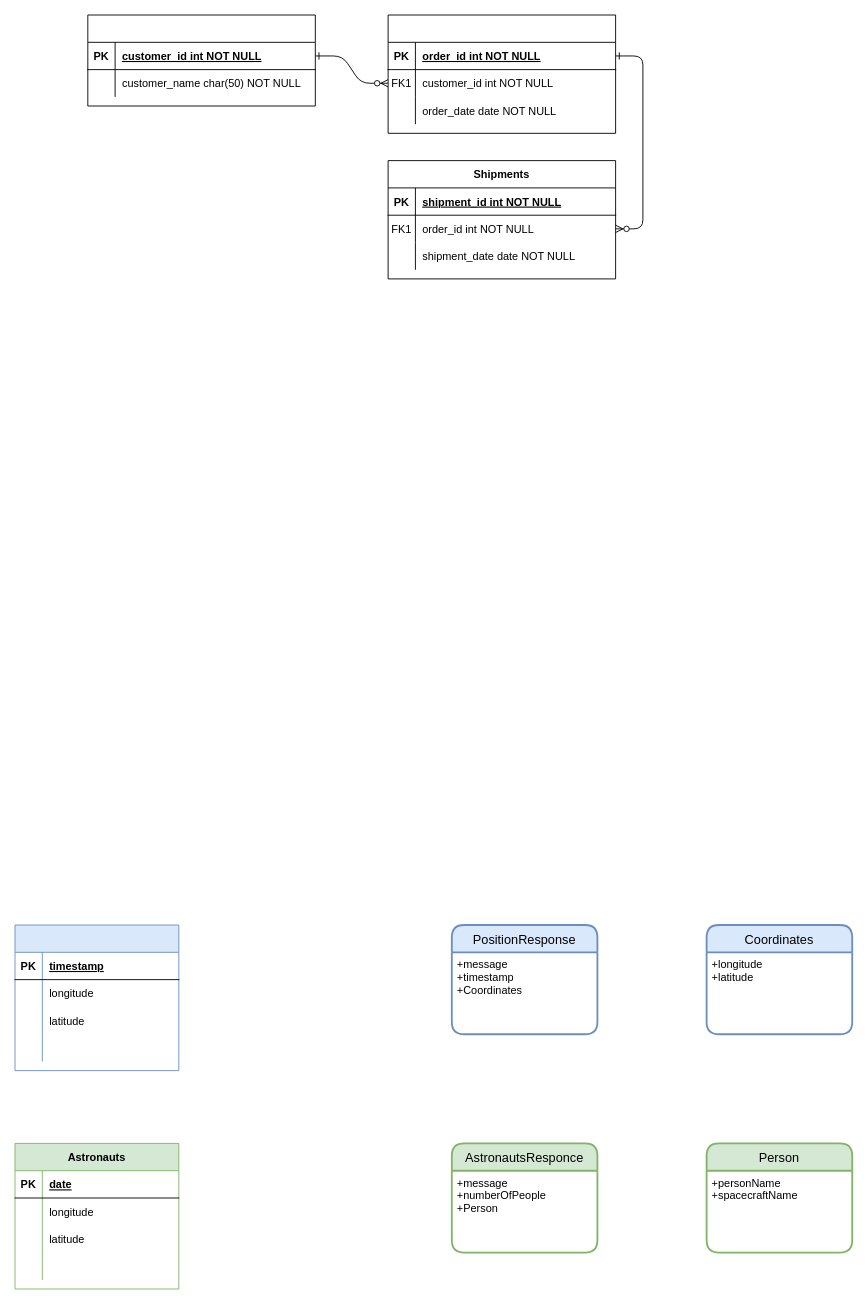
The diagram is 867 pixels wide and 1304 high, and some of its shapes have lost their labels. Here are the shapes that lost their labels. From the top down, the box of each, then its label:
(87, 14, 315, 106): Customers
(387, 14, 616, 133): Orders
(14, 924, 179, 1071): Position
